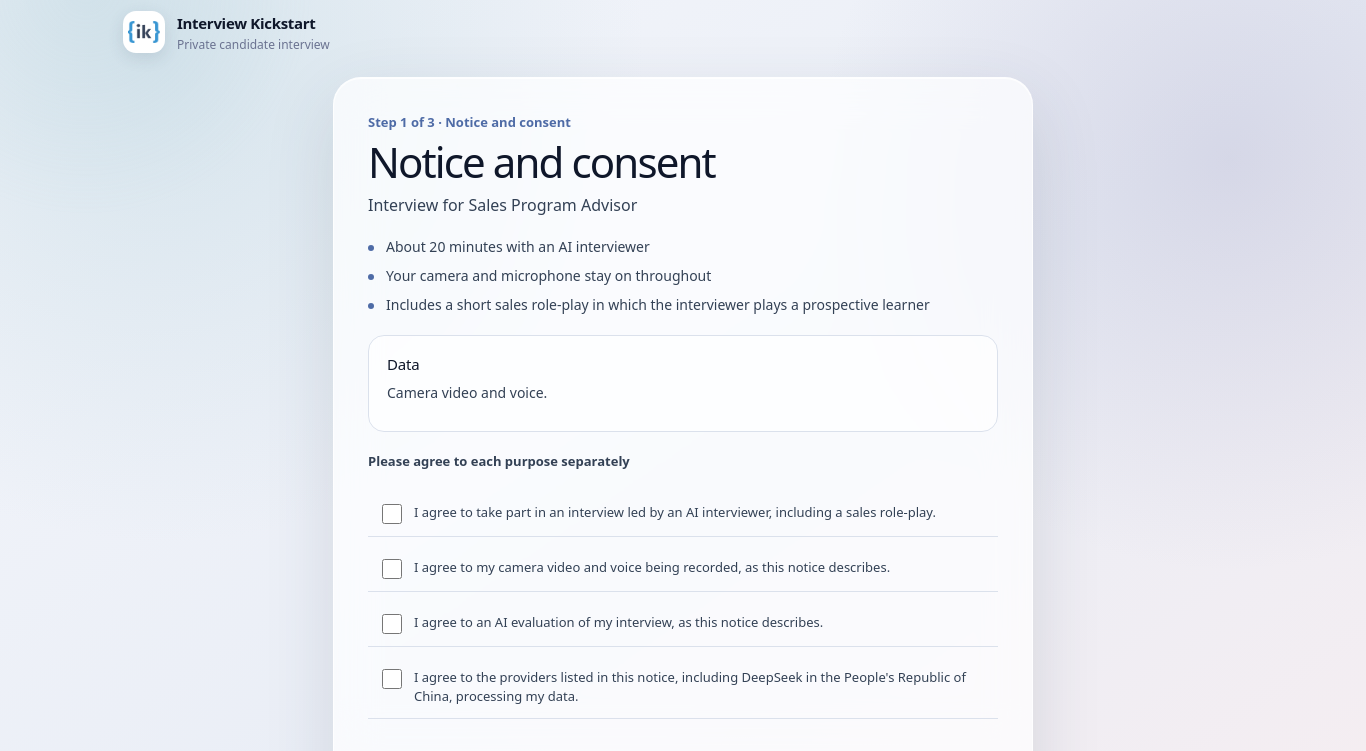
Test case: notice and consent › records a grant against the template version, then reaches the landing page
What coordinates should you click on to do the following:
click the 1st checkbox
I would click on:
 (392, 514)
Its box is [382, 504, 402, 524].
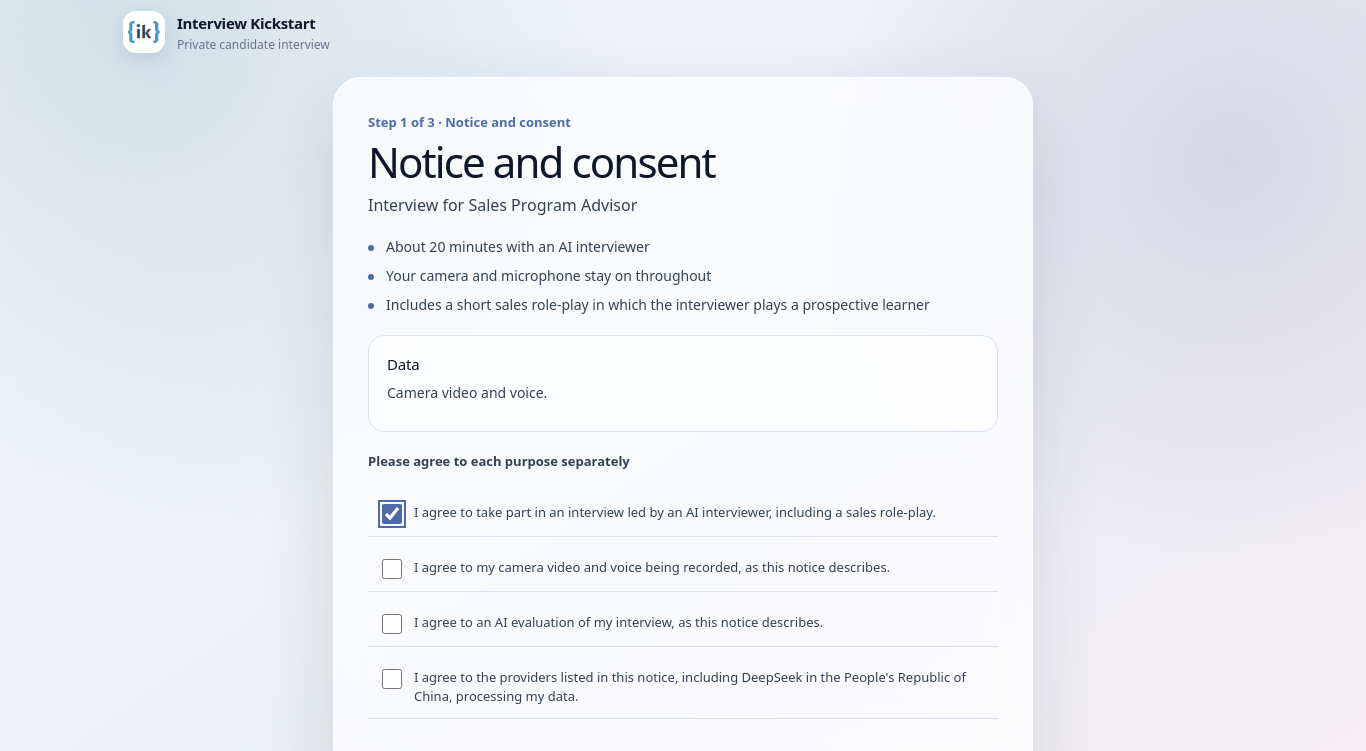
What coordinates should you click on to do the following:
click the 2nd checkbox
I would click on:
 (392, 569)
Its box is [382, 559, 402, 579].
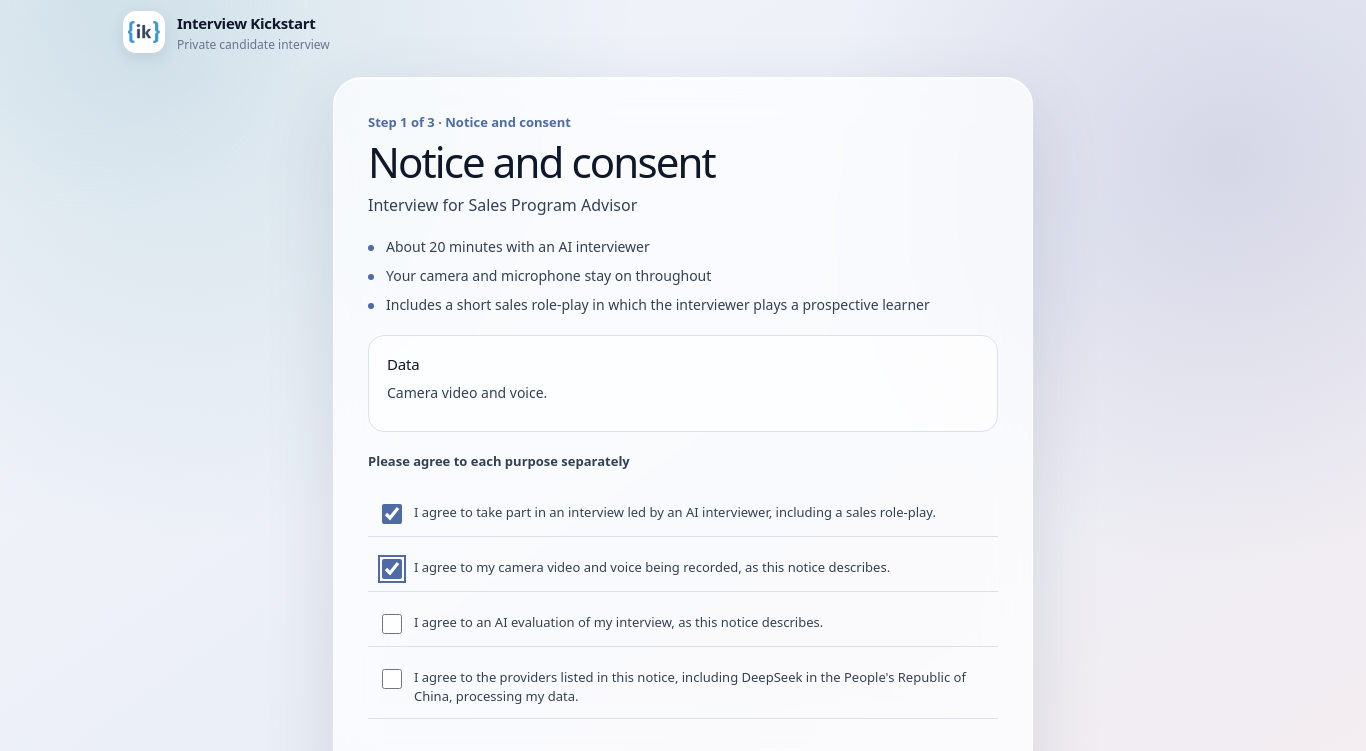
What coordinates should you click on to do the following:
click the 3rd checkbox
I would click on:
 (392, 624)
Its box is [382, 614, 402, 634].
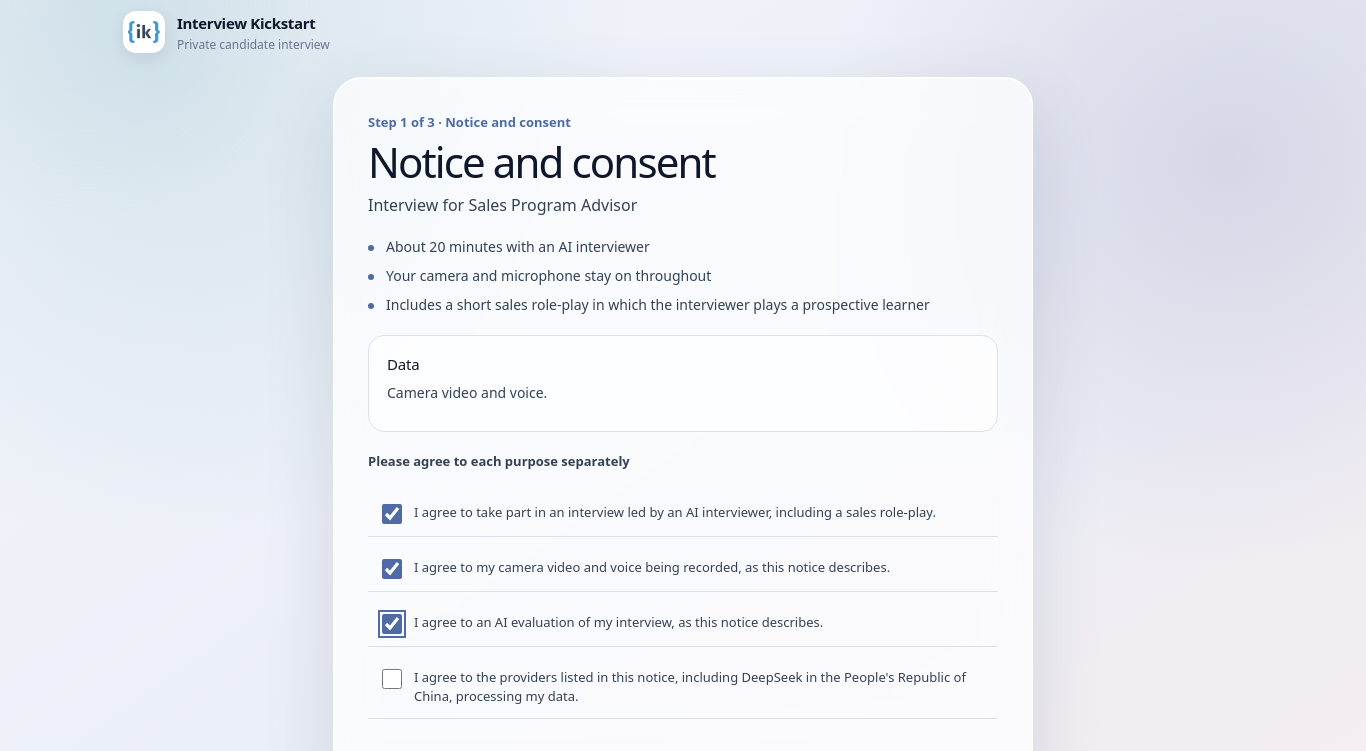
What coordinates should you click on to do the following:
click the 4th checkbox
I would click on:
 (392, 679)
Its box is [382, 669, 402, 689].
(page scrolled)
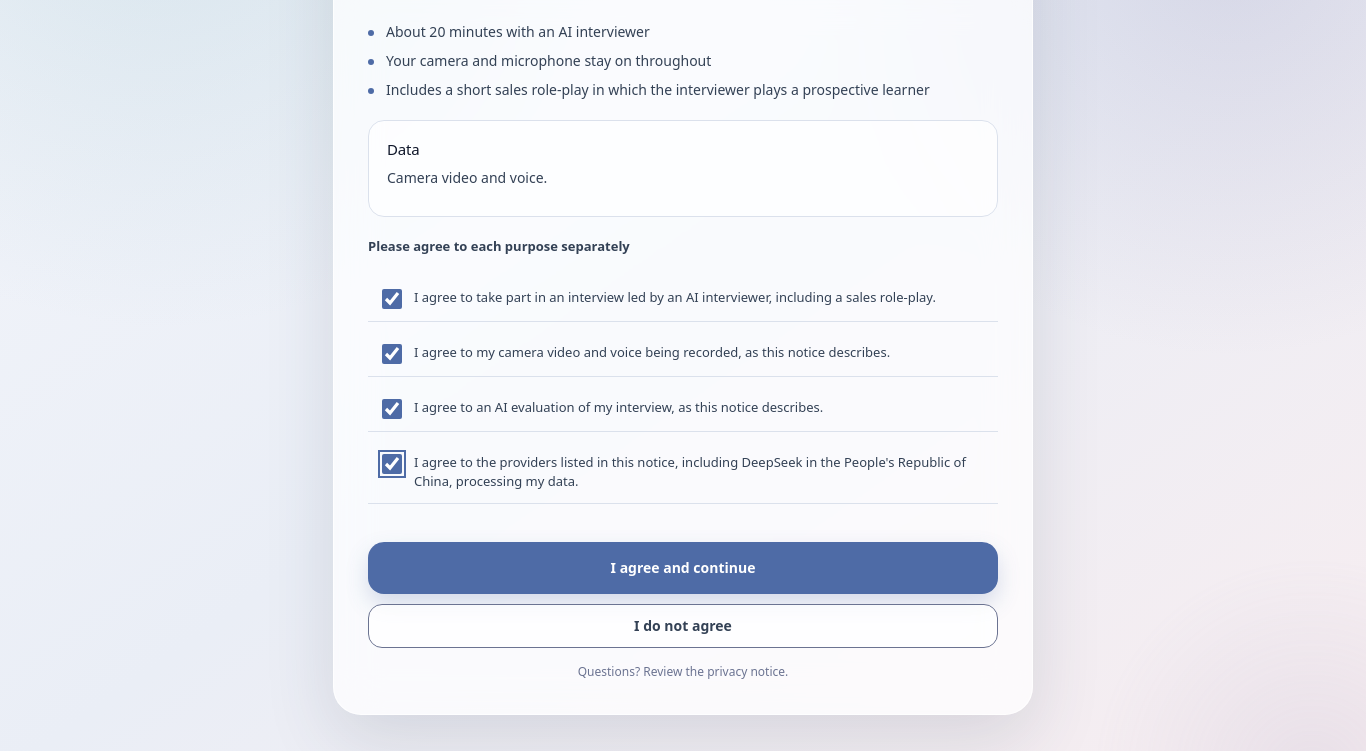
What coordinates should you click on to do the following:
click the button "I agree and continue"
I would click on:
 (683, 568)
Its box is [368, 542, 998, 594].
(page scrolled)
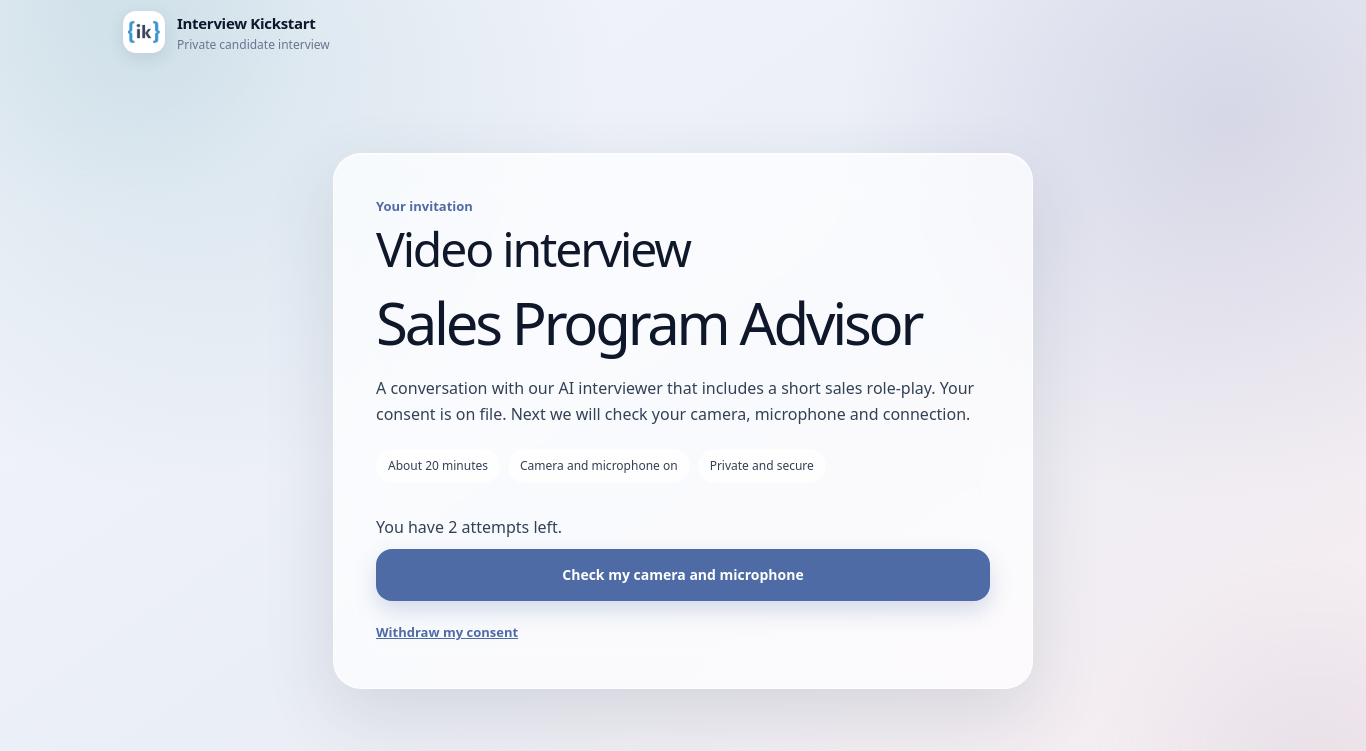
Now the heading "Video interview" is shown, box [376, 216, 690, 281]
